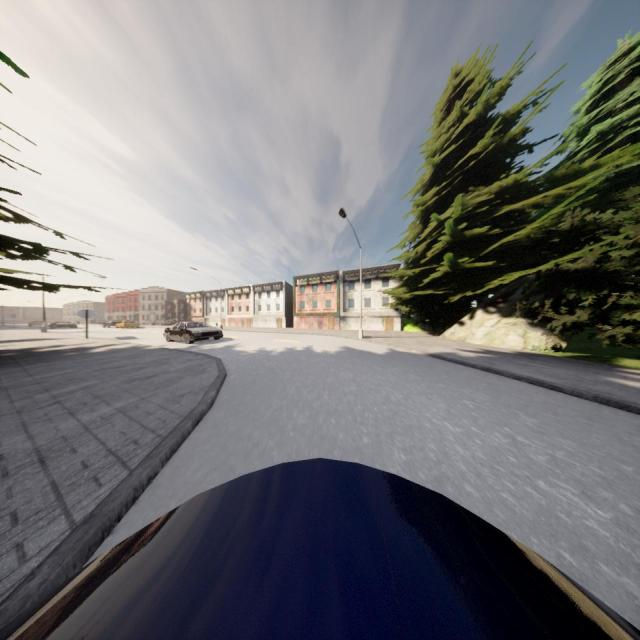Traffic_Signs: (77, 309, 95, 319)
Vehicle: (0, 458, 640, 640), (164, 322, 223, 344), (49, 321, 77, 329), (116, 320, 140, 329), (102, 319, 118, 328), (28, 320, 42, 329)
